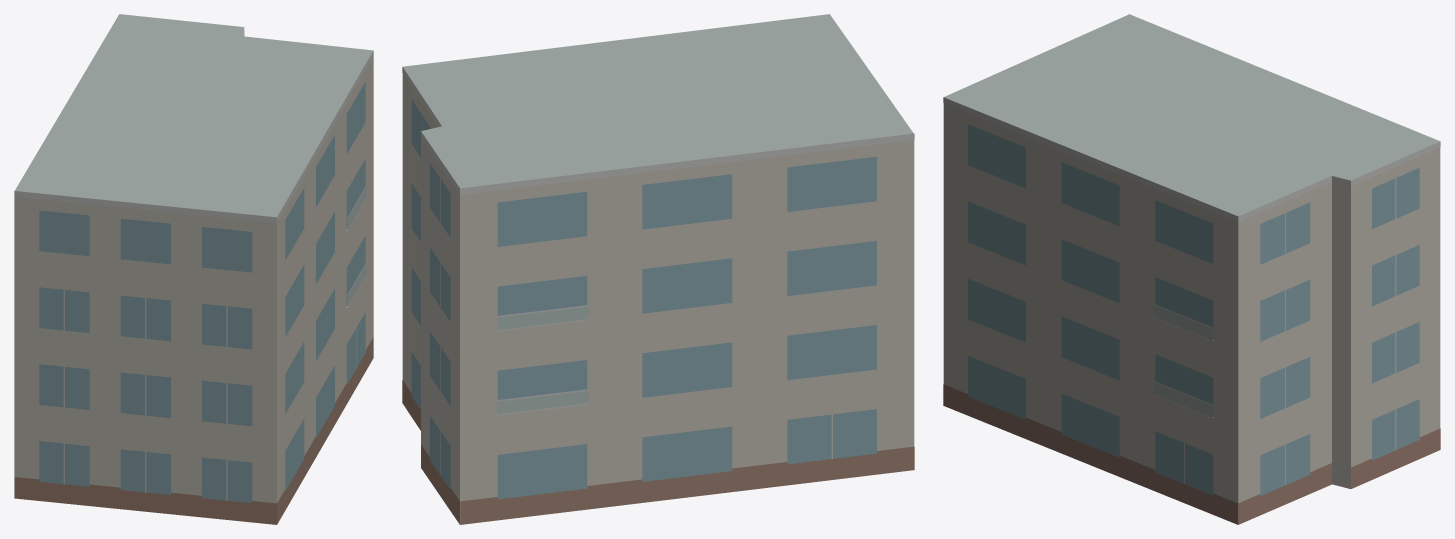
Rendered from survey-upis-32821123.glb.
The picture shows the model from 3 angles, left to right: view 1: azimuth 30°, elevation 25°; view 2: azimuth 150°, elevation 25°; view 3: azimuth 270°, elevation 25°; orthographic projection. The views are drawn at different scales.
Parts seen in each view (by area): view 1: survey-upis-32821123.tmp; view 2: survey-upis-32821123.tmp; view 3: survey-upis-32821123.tmp.
Part boxes in pixels (x1=…): survey-upis-32821123.tmp: x1=14, y1=14, x2=373, y2=524; survey-upis-32821123.tmp: x1=402, y1=14, x2=914, y2=524; survey-upis-32821123.tmp: x1=943, y1=14, x2=1440, y2=524.
Size of the model in its own units: 17.87 by 12.7 by 18.55.
